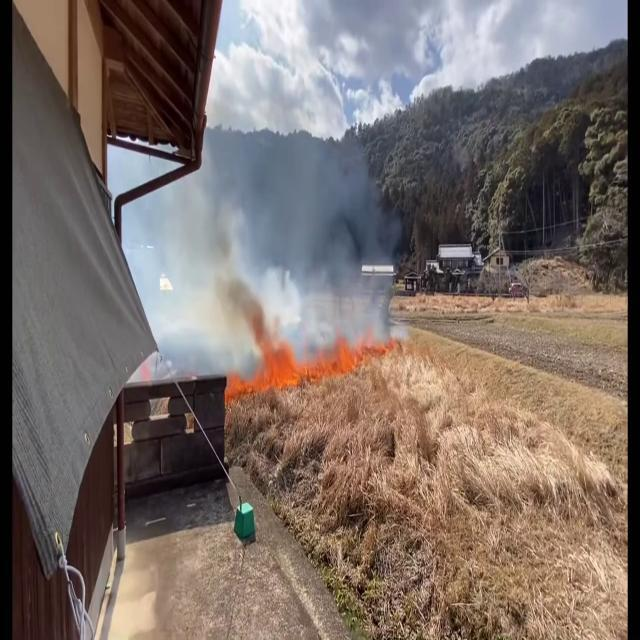Fire: (228, 303, 408, 414)
Smoke: (186, 72, 407, 369)
